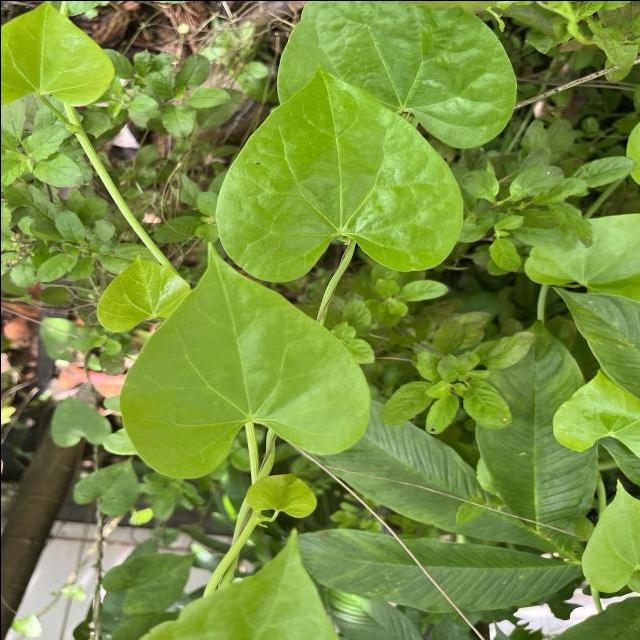Tinospora cordifolia: (114, 238, 372, 482), (210, 61, 468, 284), (274, 0, 520, 153), (0, 0, 118, 109)
